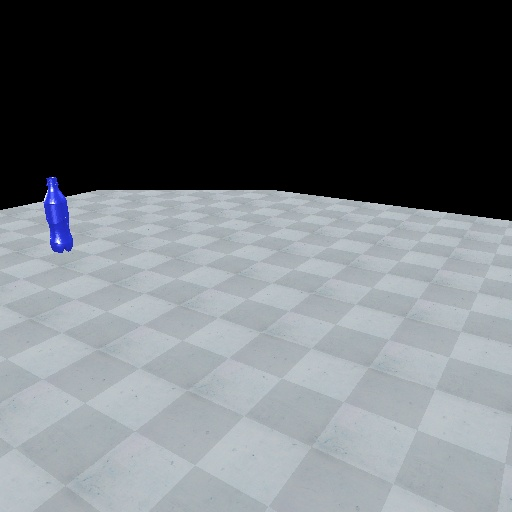bottle: (40, 174, 76, 254)
